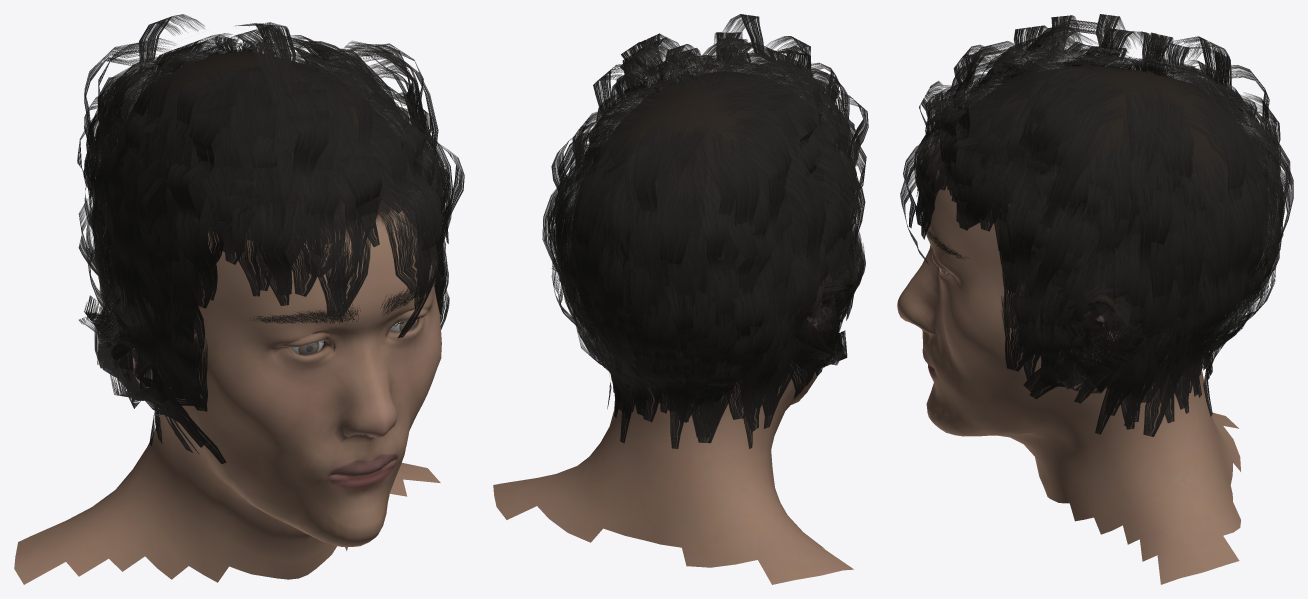
The model's file is head.glb.
3 renders of one model, left to right at view 1: azimuth 30°, elevation 25°; view 2: azimuth 150°, elevation 25°; view 3: azimuth 270°, elevation 25°, orthographic. The views are drawn at different scales.
Parts seen in each view (by area): view 1: hair, jibai, brows; view 2: hair, jibai; view 3: hair, jibai.
Boxes of the visible parts, x1=… form: hair: x1=77, y1=14, x2=464, y2=463; jibai: x1=14, y1=51, x2=441, y2=584; brows: x1=249, y1=278, x2=435, y2=324; hair: x1=542, y1=14, x2=868, y2=448; jibai: x1=493, y1=71, x2=853, y2=584; hair: x1=900, y1=14, x2=1293, y2=436; jibai: x1=897, y1=66, x2=1256, y2=584.
Size of the model in its own units: 0.2609 by 0.3222 by 0.2487.
Materials: 10 (4 with a texture image).
